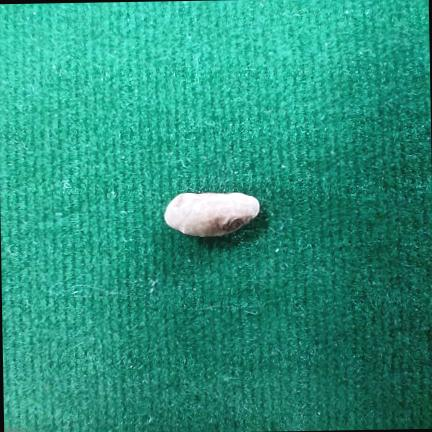shell: (165, 192, 259, 236)
